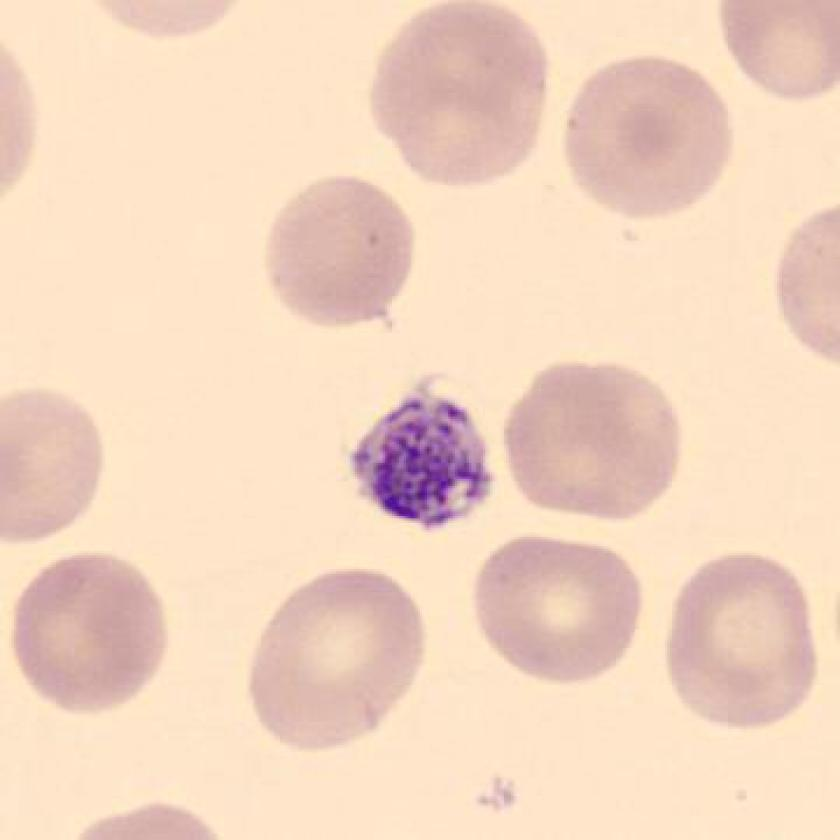platelets: (337, 378, 503, 543)
